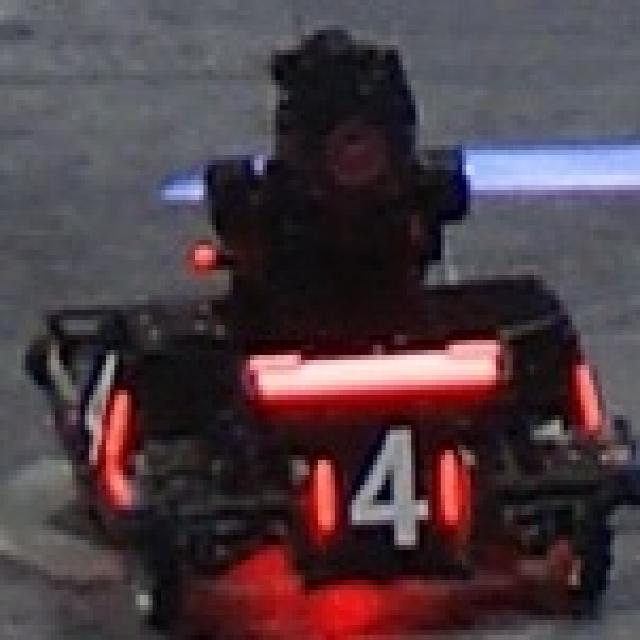R4: (314, 420, 462, 550)
